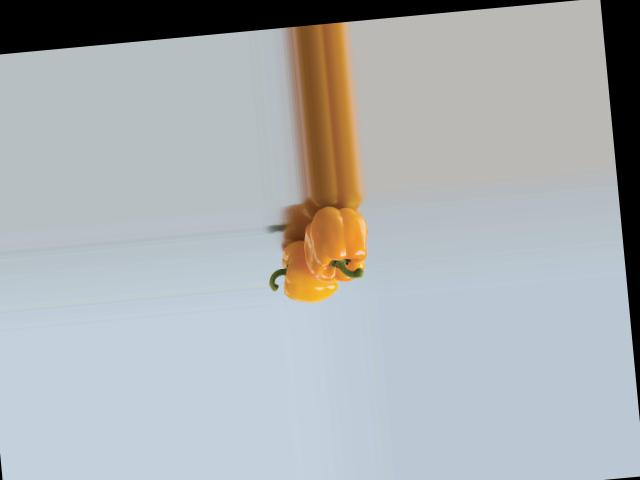bell_pepper: (265, 226, 342, 306)
